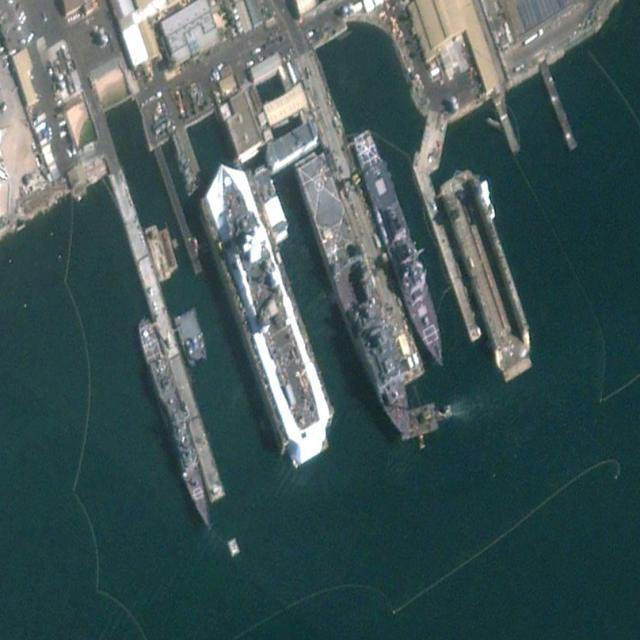Destroyer: (349, 121, 456, 378)
Frigate: (135, 312, 219, 538)
Landing: (294, 144, 421, 447)
Other Warship: (210, 159, 322, 434)
